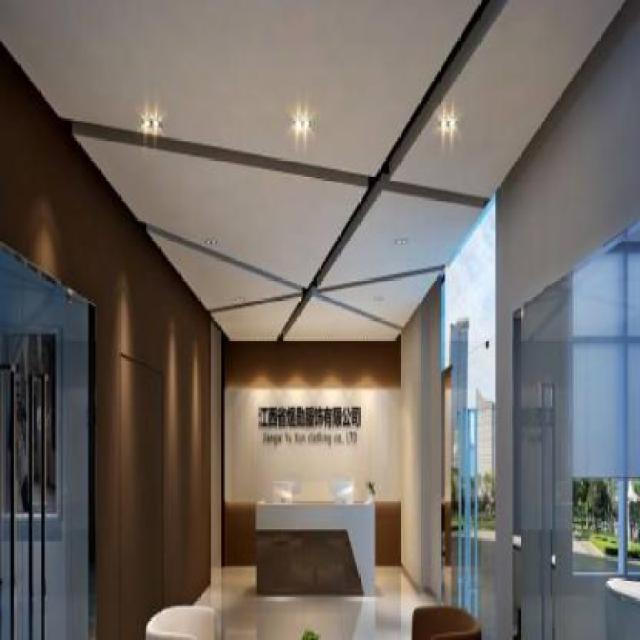frontdesk: (251, 491, 378, 607)
